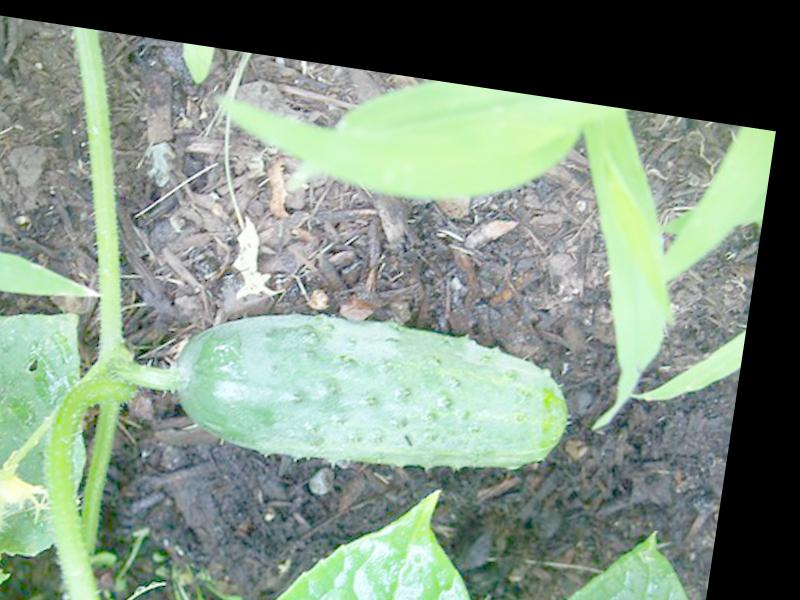Cucumber: (166, 292, 581, 496)
